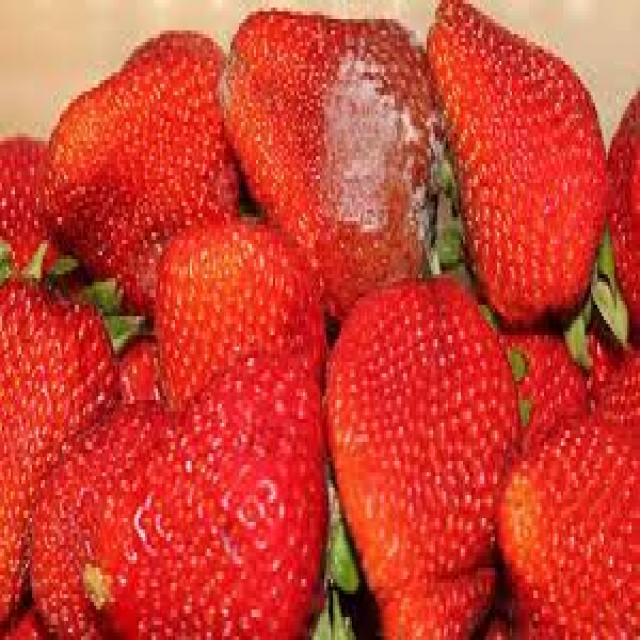organic waste: (81, 343, 356, 636), (214, 4, 456, 316), (424, 0, 630, 366), (320, 274, 527, 636), (38, 27, 237, 324), (0, 236, 117, 628), (154, 210, 324, 415), (495, 408, 638, 636), (26, 396, 156, 636), (491, 312, 586, 450), (604, 68, 638, 350), (0, 126, 62, 274), (580, 312, 638, 427), (102, 316, 160, 408), (6, 598, 49, 636)
